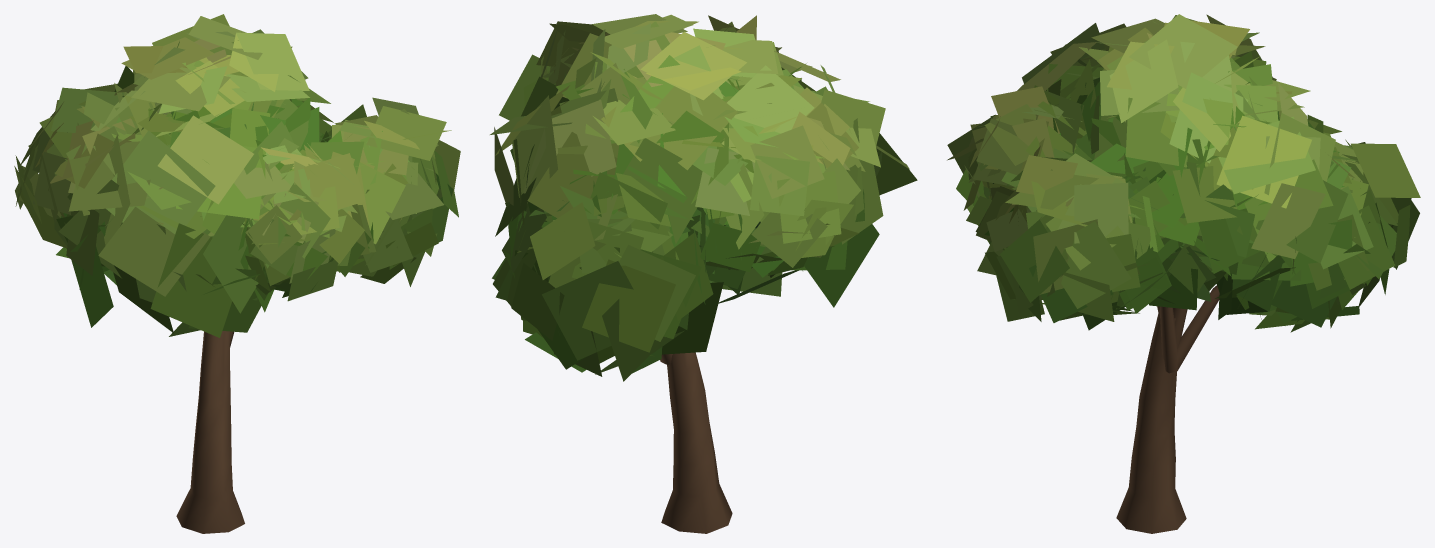
Rendered from oak_b.glb.
3 views of the same model, side by side, from view 1: azimuth 30°, elevation 25°; view 2: azimuth 150°, elevation 25°; view 3: azimuth 270°, elevation 25° (orthographic). The views are drawn at different scales.
Parts seen in each view (by area): view 1: LeafCards, Trunk; view 2: LeafCards, Trunk; view 3: LeafCards, Trunk.
Part boxes in pixels (x1,y1,x2,y2): LeafCards: [14, 14, 460, 337]; Trunk: [176, 331, 244, 533]; LeafCards: [490, 14, 917, 381]; Trunk: [660, 352, 732, 533]; LeafCards: [947, 14, 1420, 332]; Trunk: [1116, 285, 1219, 533].
Bounding box in the file's own units: 6.01 × 7.48 × 6.44.
